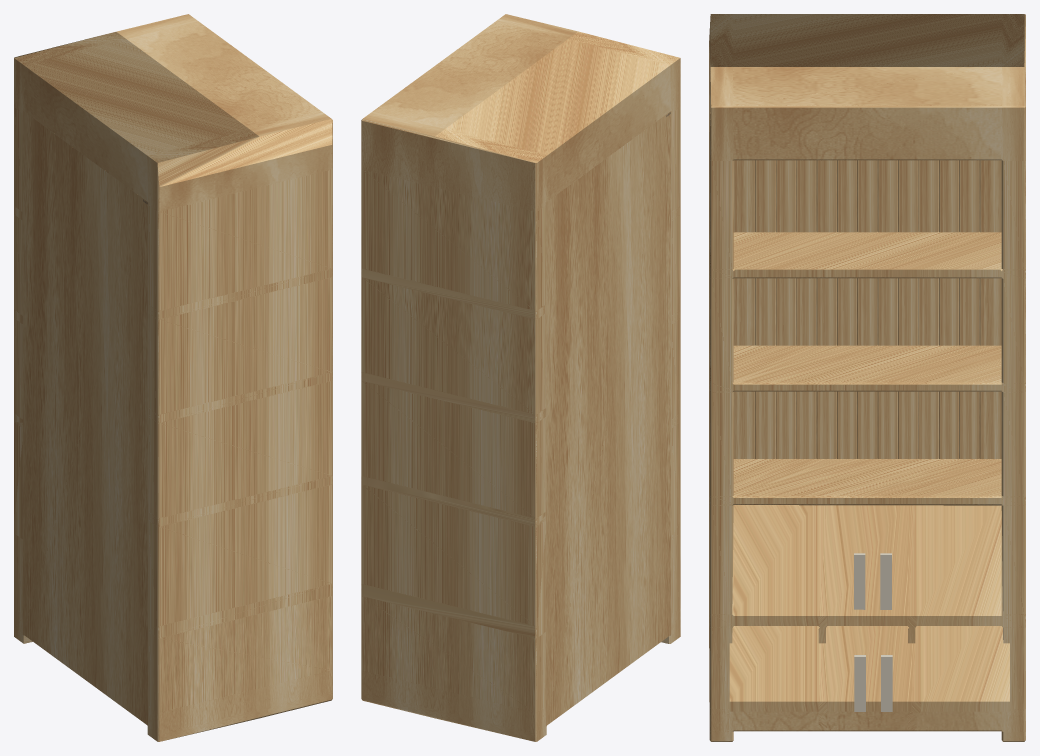
The model's file is Closet1.fbx.
3 renders of one model, left to right at view 1: azimuth 30°, elevation 25°; view 2: azimuth 150°, elevation 25°; view 3: azimuth 270°, elevation 25°, orthographic. The views are drawn at different scales.
Visible parts, largest first — view 1: шкаф1; view 2: шкаф1; view 3: шкаф1, Ручки004, Ручки003.
Part boxes in pixels (x1,y1,x2,y2): шкаф1: (14,14,332,741); шкаф1: (361,14,680,741); шкаф1: (709,14,1025,741); Ручки004: (854,655,892,711); Ручки003: (854,553,891,609).
Size of the model in its own units: 608 by 1878 by 847.
2 materials, 1 textured.
